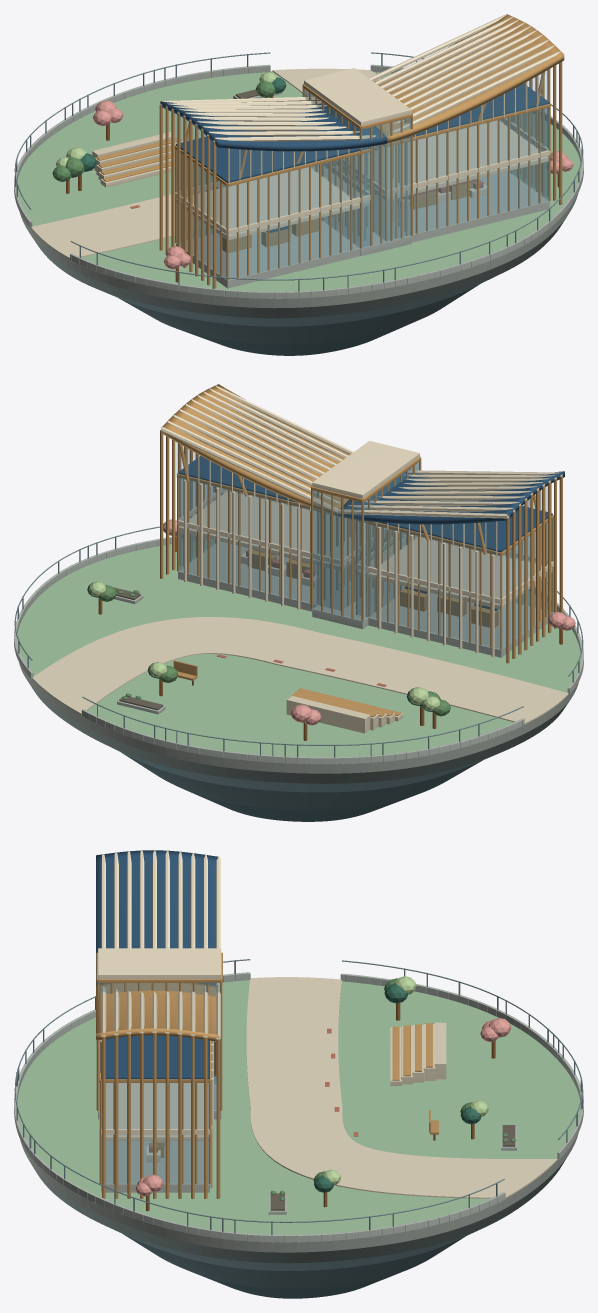
3 renders of one model, top to bottom at view 1: azimuth 30°, elevation 25°; view 2: azimuth 150°, elevation 25°; view 3: azimuth 270°, elevation 25°, orthographic. The views are drawn at different scales.
Visible parts, largest first — view 1: ROLE_building_Components__eduGlass, ROLE_terrain_Components__grass, ROLE_building_Components__eduAmber, ROLE_roof_Components__eduCream, ROLE_building_Components__eduCream, ROLE_roof_Components__eduGlass, ROLE_roof_Components__eduAmber, ROLE_paving_Components__stone2, ROLE_roof_Components__eduBlue, ROLE_rails_Components__stone2, ROLE_paving_Components__paveLight, ROLE_terrain_Components__stone2 (+9 smaller); view 2: ROLE_terrain_Components__grass, ROLE_building_Components__eduGlass, ROLE_paving_Components__paveLight, ROLE_building_Components__eduAmber, ROLE_roof_Components__eduCream, ROLE_building_Components__eduCream, ROLE_roof_Components__eduGlass, ROLE_roof_Components__eduAmber, ROLE_paving_Components__stone2, ROLE_roof_Components__eduBlue, ROLE_rails_Components__stone2, ROLE_terrain_Components__stone2 (+10 smaller); view 3: ROLE_terrain_Components__grass, ROLE_paving_Components__paveLight, ROLE_roof_Components__eduCream, ROLE_roof_Components__eduBlue, ROLE_building_Components__eduAmber, ROLE_rails_Components__stone2, ROLE_building_Components__eduGlass, ROLE_roof_Components__eduAmber, ROLE_terrain_Components__stone2, ROLE_terrain_Components__cliff3, ROLE_building_Components__eduCream, ROLE_terrain_Components__cliff2 (+9 smaller).
Boxes of the visible parts, left/top/right/bottom form: ROLE_building_Components__eduGlass: left=176, top=107, right=549, bottom=280; ROLE_terrain_Components__grass: left=17, top=71, right=581, bottom=291; ROLE_building_Components__eduAmber: left=96, top=62, right=562, bottom=288; ROLE_roof_Components__eduCream: left=160, top=14, right=560, bottom=182; ROLE_building_Components__eduCream: left=175, top=118, right=550, bottom=240; ROLE_roof_Components__eduGlass: left=175, top=70, right=548, bottom=247; ROLE_roof_Components__eduAmber: left=186, top=14, right=564, bottom=248; ROLE_paving_Components__stone2: left=176, top=172, right=549, bottom=288; ROLE_roof_Components__eduBlue: left=160, top=83, right=549, bottom=183; ROLE_rails_Components__stone2: left=14, top=64, right=583, bottom=298; ROLE_paving_Components__paveLight: left=31, top=68, right=384, bottom=258; ROLE_terrain_Components__stone2: left=19, top=194, right=577, bottom=308; ROLE_terrain_Components__grass: left=16, top=539, right=581, bottom=756; ROLE_building_Components__eduGlass: left=178, top=478, right=552, bottom=649; ROLE_paving_Components__paveLight: left=32, top=617, right=568, bottom=723; ROLE_building_Components__eduAmber: left=160, top=430, right=562, bottom=717; ROLE_roof_Components__eduCream: left=160, top=385, right=562, bottom=556; ROLE_building_Components__eduCream: left=177, top=479, right=553, bottom=657; ROLE_roof_Components__eduGlass: left=176, top=443, right=547, bottom=620; ROLE_roof_Components__eduAmber: left=161, top=384, right=535, bottom=621; ROLE_paving_Components__stone2: left=178, top=541, right=552, bottom=657; ROLE_roof_Components__eduBlue: left=178, top=456, right=564, bottom=552; ROLE_rails_Components__stone2: left=14, top=535, right=583, bottom=764; ROLE_terrain_Components__stone2: left=19, top=662, right=578, bottom=773; ROLE_terrain_Components__grass: left=17, top=980, right=580, bottom=1234; ROLE_paving_Components__paveLight: left=246, top=977, right=557, bottom=1198; ROLE_roof_Components__eduCream: left=98, top=850, right=221, bottom=1074; ROLE_roof_Components__eduBlue: left=96, top=850, right=218, bottom=1079; ROLE_building_Components__eduAmber: left=99, top=1023, right=432, bottom=1198; ROLE_rails_Components__stone2: left=14, top=972, right=583, bottom=1242; ROLE_building_Components__eduGlass: left=105, top=1083, right=208, bottom=1183; ROLE_roof_Components__eduAmber: left=96, top=952, right=222, bottom=1110; ROLE_terrain_Components__stone2: left=20, top=1133, right=578, bottom=1252; ROLE_terrain_Components__cliff3: left=31, top=1158, right=566, bottom=1263; ROLE_building_Components__eduCream: left=99, top=1041, right=213, bottom=1188; ROLE_terrain_Components__cliff2: left=123, top=1234, right=465, bottom=1288.
Bounding box in the file's own units: 32.74 × 17.99 × 29.82.
